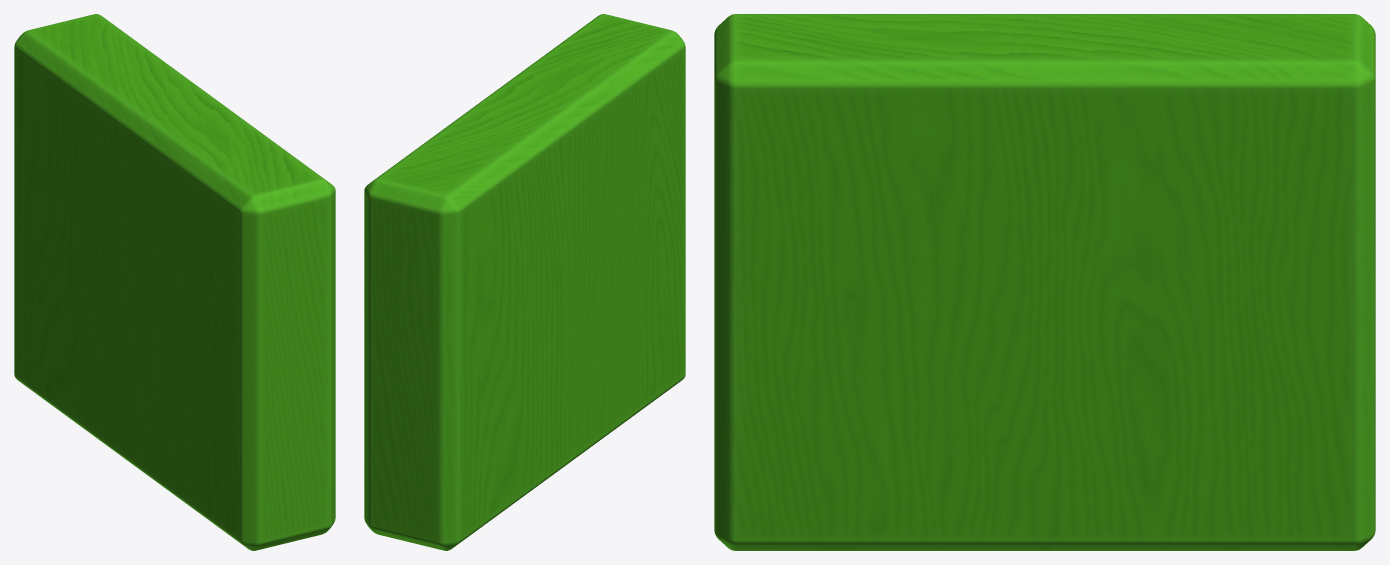
The model's file is Color_Escape_02.fbx.
3 views of the same model, side by side, from view 1: azimuth 30°, elevation 25°; view 2: azimuth 150°, elevation 25°; view 3: azimuth 270°, elevation 25° (orthographic). The views are drawn at different scales.
Parts seen in each view (by area): view 1: Color_Escape; view 2: Color_Escape; view 3: Color_Escape.
Boxes of the visible parts, x1,y1,x2,y2 form: Color_Escape: (14,14,335,550); Color_Escape: (364,14,685,550); Color_Escape: (714,14,1375,550).
Size of the model in its own units: 0.4581 by 1.63 by 2.
Materials: 1 (1 with a texture image).
